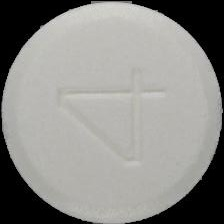33358-002: (0, 0, 224, 224)
